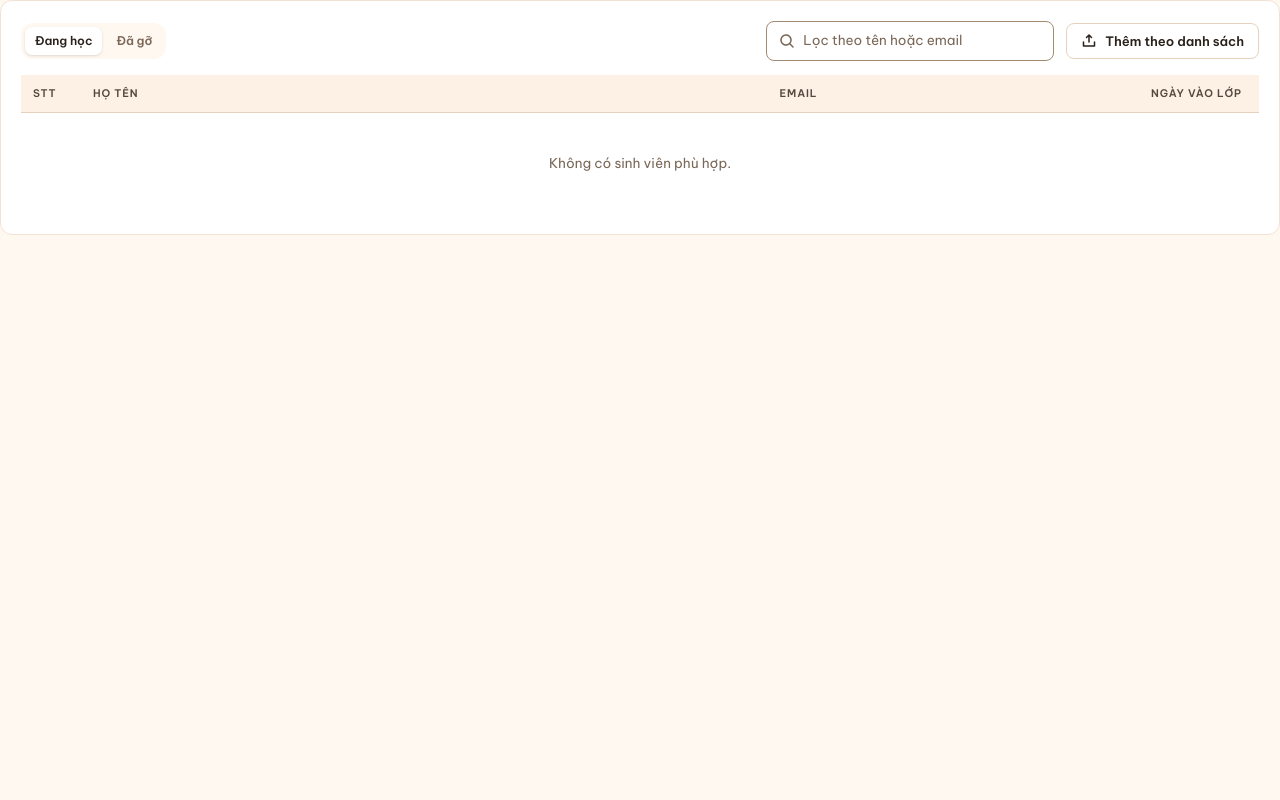
U05 reference UI › blocks batch submission when every preview email is invalid
The width and height of the screenshot is (1280, 800).
Click the button "Thêm theo danh sách" at (1163,41), box [1066, 23, 1259, 59]
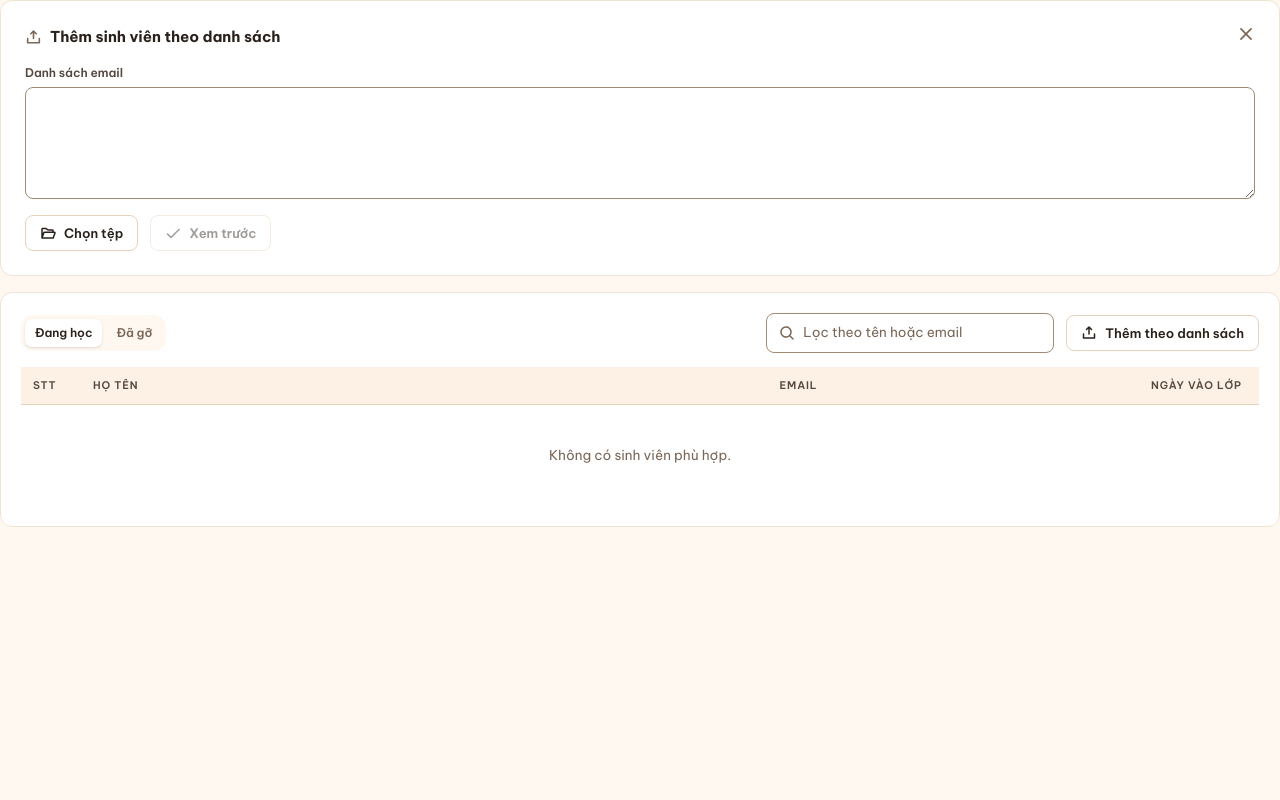
Type "invalid" into the text box labelled "Danh sách email" at (640,143), box [25, 87, 1255, 199]
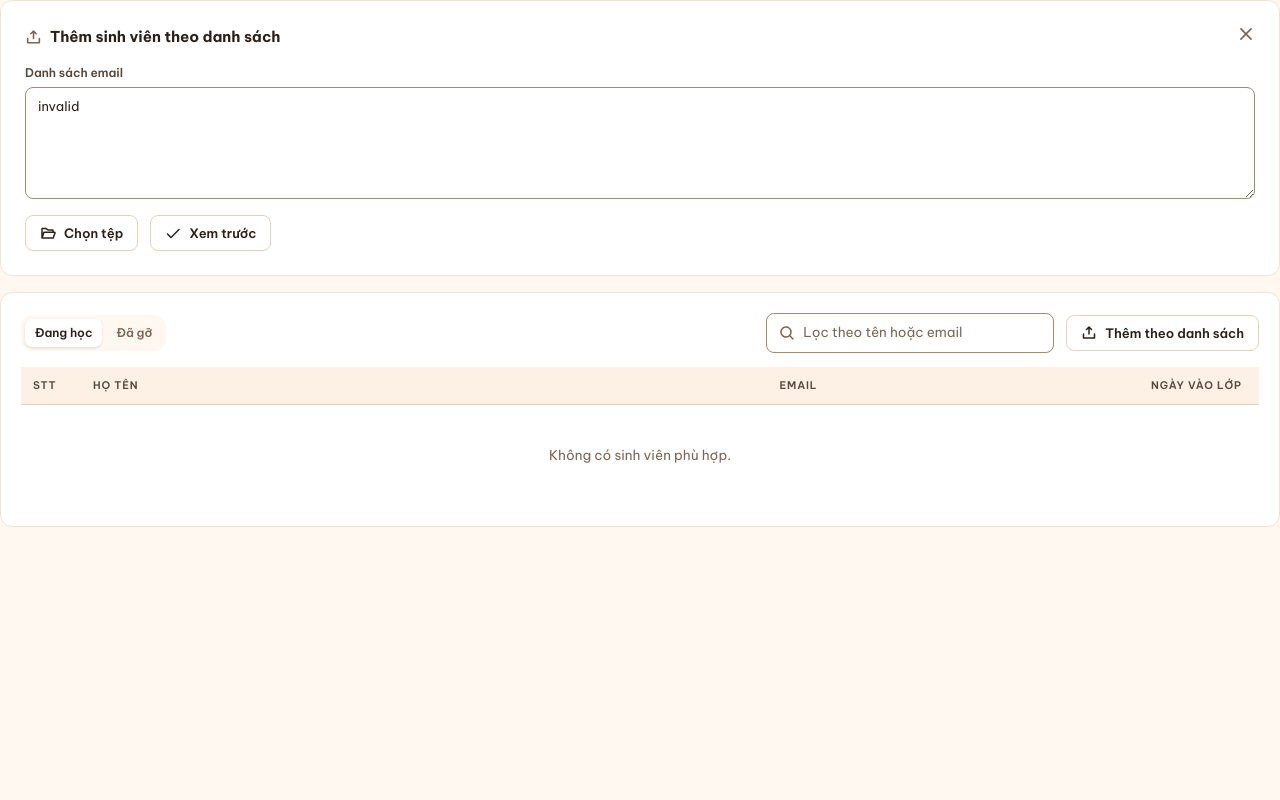
Click the button "Xem trước" at (211,233), box [150, 215, 272, 251]
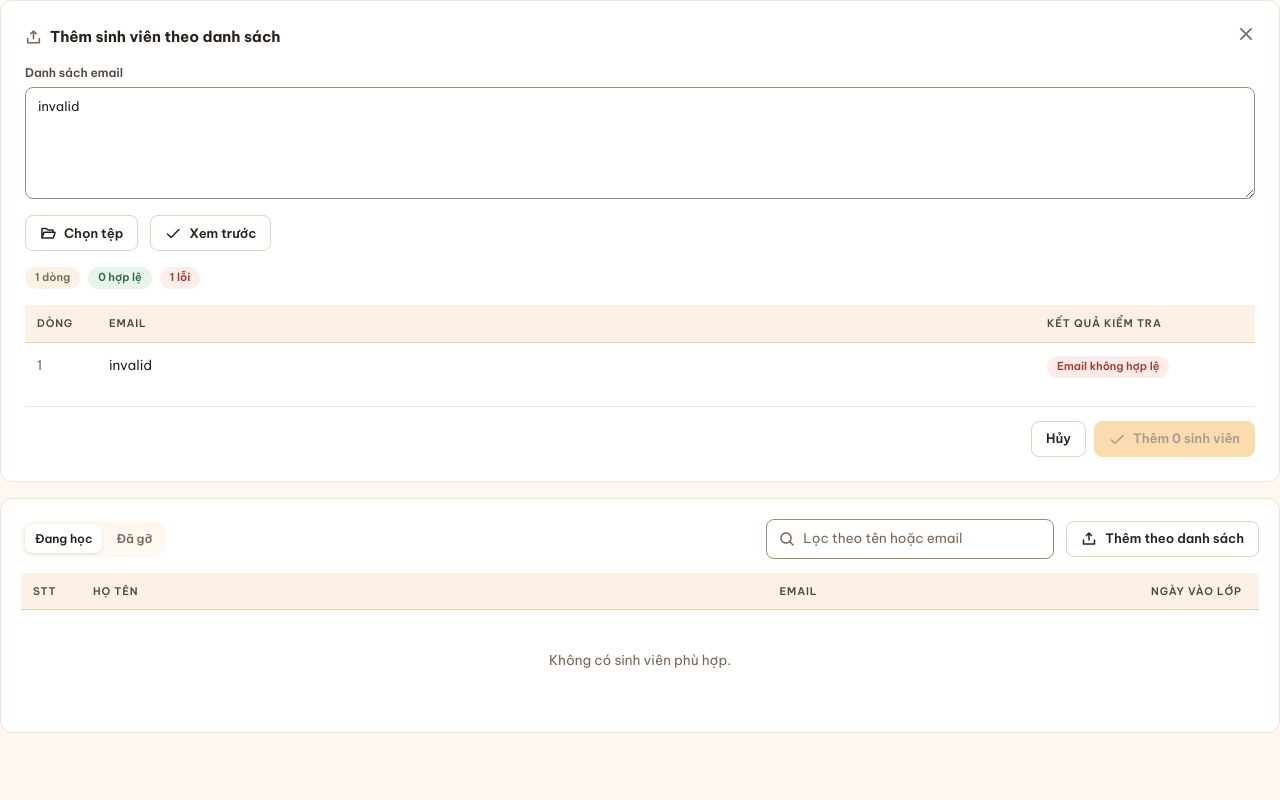
Check: the button "Thêm 0 sinh viên" is disabled, box [1094, 421, 1255, 457]
